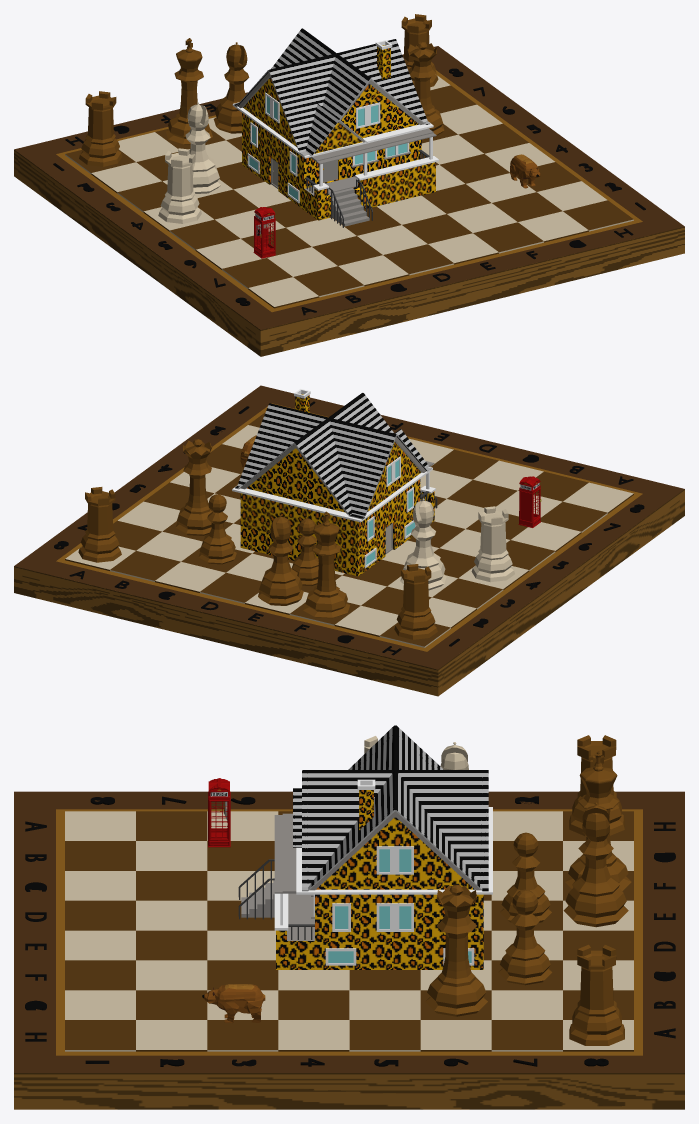
3 renders of one model, top to bottom at view 1: azimuth 30°, elevation 25°; view 2: azimuth 150°, elevation 25°; view 3: azimuth 270°, elevation 25°, orthographic. The views are drawn at different scales.
Visible parts, largest first — view 1: Cube.002, Cube.637, OBJRANDOM_PHONEBOOTH, ANIMAL_OSO; view 2: Cube.002, Cube.637, OBJRANDOM_PHONEBOOTH; view 3: Cube.002, Cube.637, ANIMAL_OSO, OBJRANDOM_PHONEBOOTH.
Part boxes in pixels (x1=…): Cube.002: x1=14, y1=14, x2=684, y2=356; Cube.637: x1=232, y1=28, x2=438, y2=227; OBJRANDOM_PHONEBOOTH: x1=253, y1=207, x2=275, y2=258; ANIMAL_OSO: x1=510, y1=154, x2=540, y2=188; Cube.002: x1=14, y1=385, x2=684, y2=696; Cube.637: x1=232, y1=389, x2=437, y2=576; OBJRANDOM_PHONEBOOTH: x1=518, y1=476, x2=541, y2=527; Cube.002: x1=14, y1=735, x2=684, y2=1109; Cube.637: x1=238, y1=725, x2=492, y2=969; ANIMAL_OSO: x1=202, y1=984, x2=265, y2=1022; OBJRANDOM_PHONEBOOTH: x1=208, y1=778, x2=230, y2=847.
Size of the model in its own units: 3981 by 1500 by 4012.
Materials: 32 (3 with a texture image).
